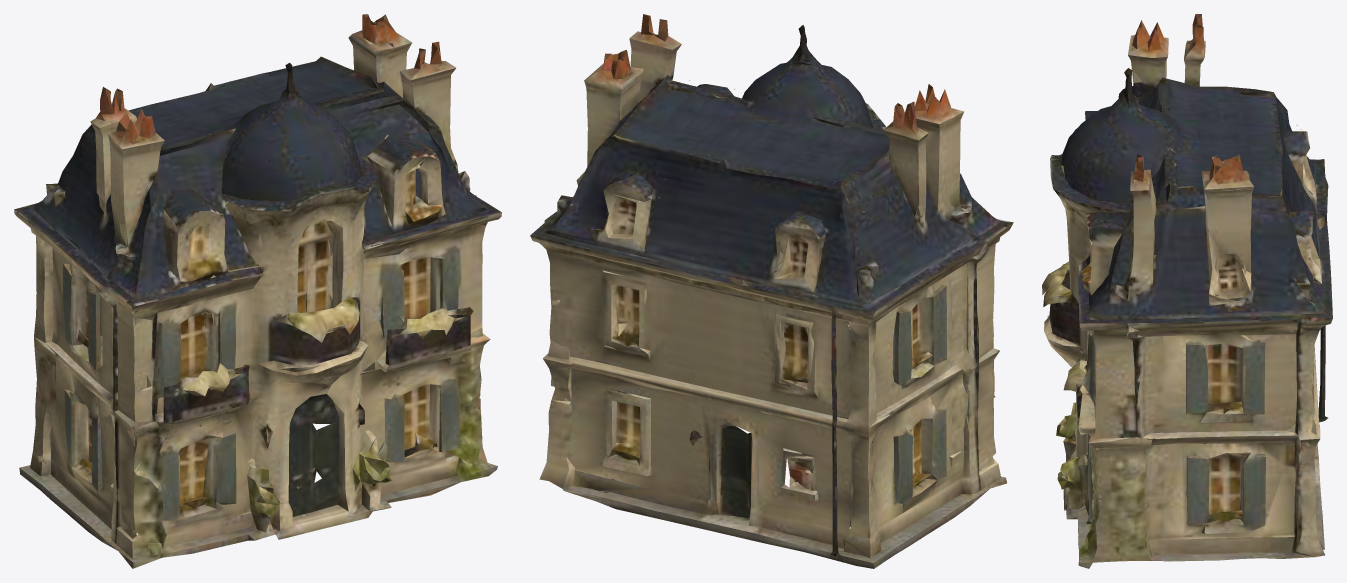
Rendered from tower_2.glb.
3 views of the same model, side by side, from view 1: azimuth 30°, elevation 25°; view 2: azimuth 150°, elevation 25°; view 3: azimuth 270°, elevation 25° (orthographic). The views are drawn at different scales.
Parts seen in each view (by area): view 1: classic__tower_2__neural_lod; view 2: classic__tower_2__neural_lod; view 3: classic__tower_2__neural_lod.
Boxes of the visible parts, x1=… form: classic__tower_2__neural_lod: x1=14, y1=14, x2=501, y2=568; classic__tower_2__neural_lod: x1=530, y1=14, x2=1013, y2=568; classic__tower_2__neural_lod: x1=1042, y1=14, x2=1332, y2=568.
Size of the model in its own units: 0.8901 by 0.9855 by 0.614.
1 material, 1 textured.
